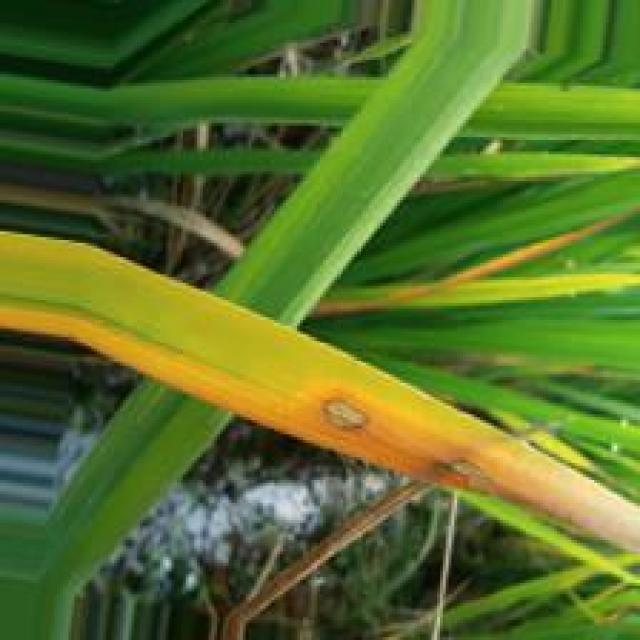Leaf_Blast: (417, 452, 612, 534), (315, 396, 381, 439)
